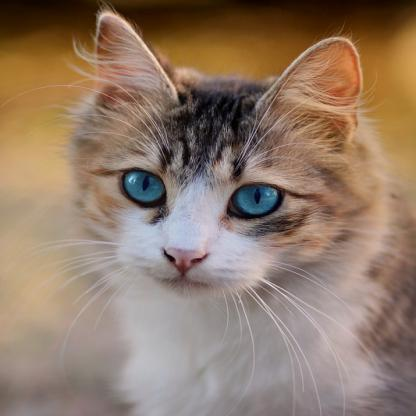cat: (70, 10, 415, 416)
